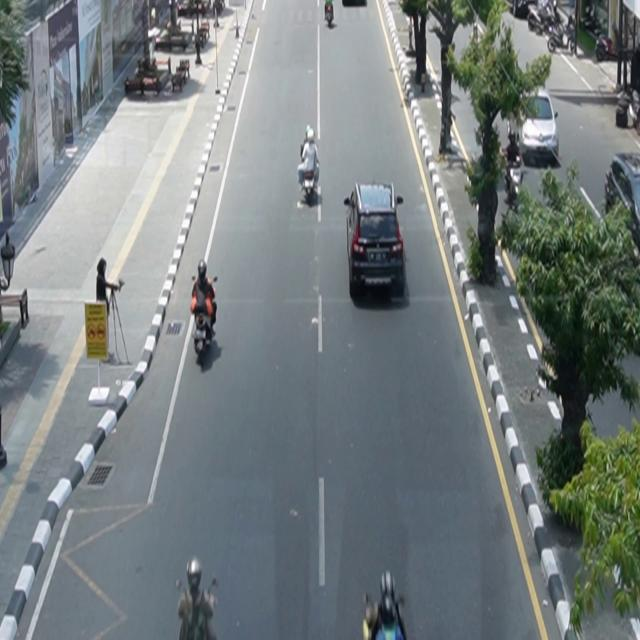car: (344, 182, 407, 299), (509, 86, 560, 165), (605, 152, 640, 252)
